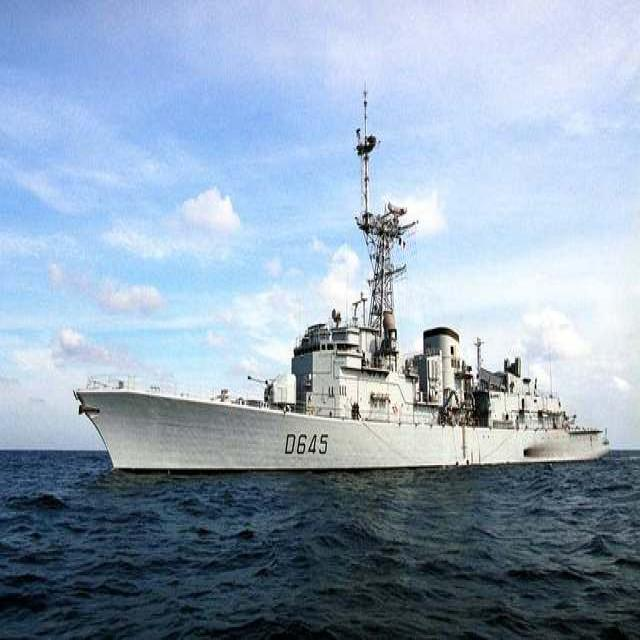navalvessels: (71, 78, 609, 498)
